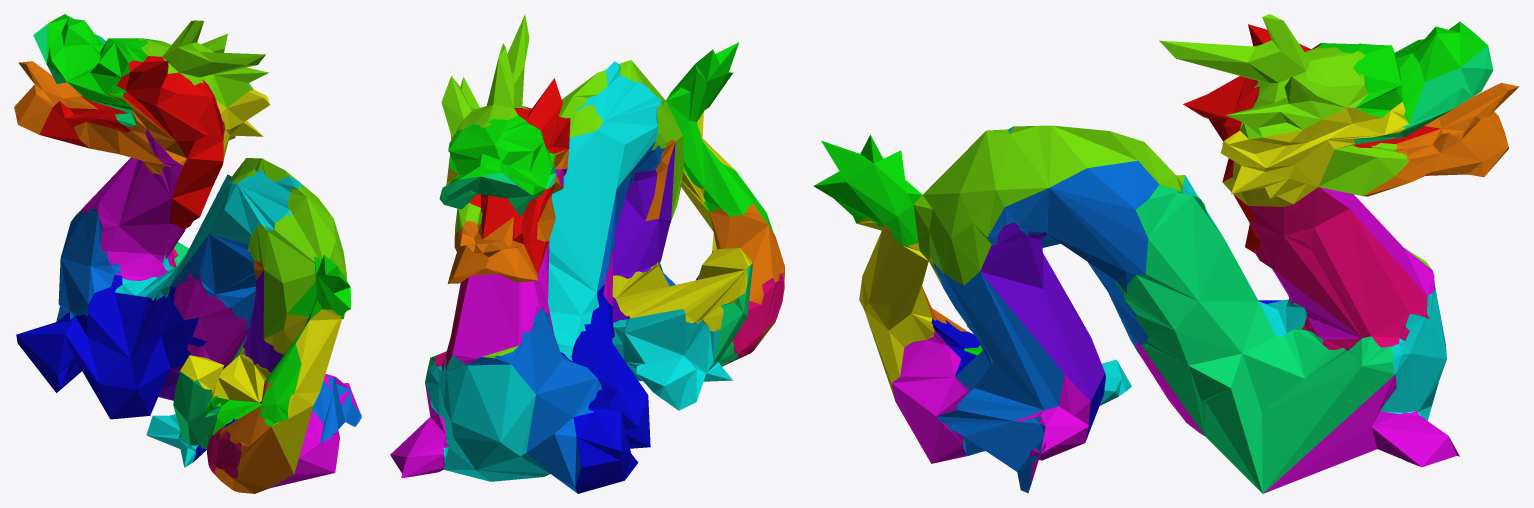
The model's file is Dragon_80K_nanite_LOD5.fbx.
The picture shows the model from 3 angles, left to right: view 1: azimuth 30°, elevation 25°; view 2: azimuth 150°, elevation 25°; view 3: azimuth 270°, elevation 25°; orthographic projection. The views are drawn at different scales.
Size of the model in its own units: 0.4386 by 0.7048 by 1.
